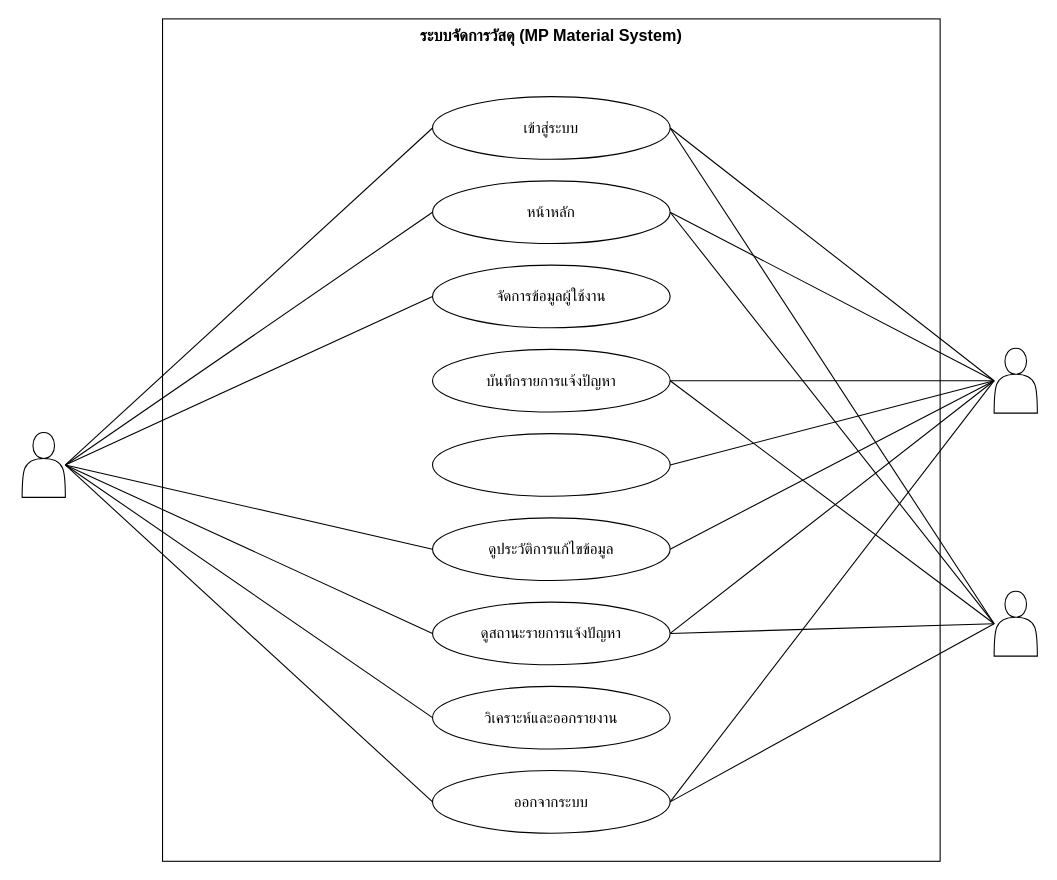
Some shapes in this 1057 by 880 pixel diagram are drawn without their labels. The shapes that lost their labels are listed below. From the top down, each one's box as (x1, y1, x2, y2) in pixels, then its label:
(993, 347, 1037, 413): Agent
(21, 431, 65, 497): Admin
(431, 433, 670, 496): จัดการส่งงานให้ช่าง
(993, 590, 1037, 656): User
